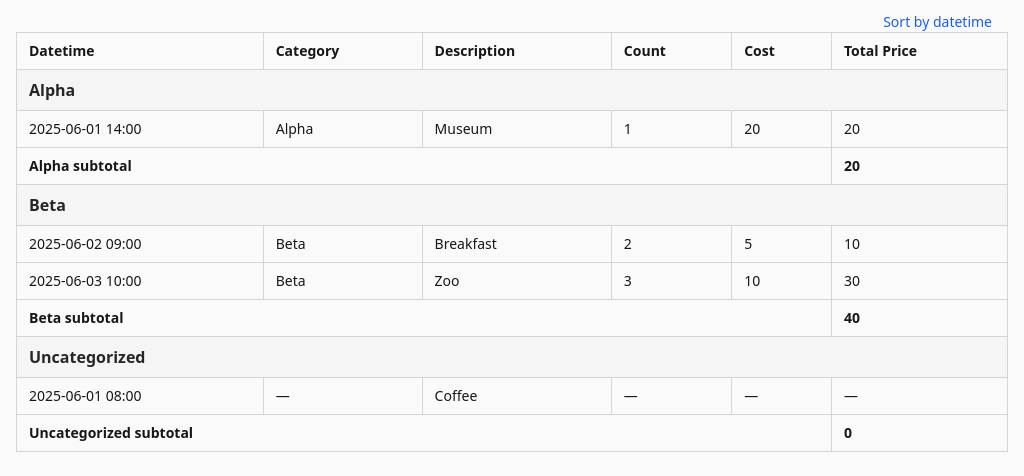
Scenario: ActivityTable › shows a select when category cell is clicked
Click the cell "Alpha" at [343, 129], box [263,110,422,148]
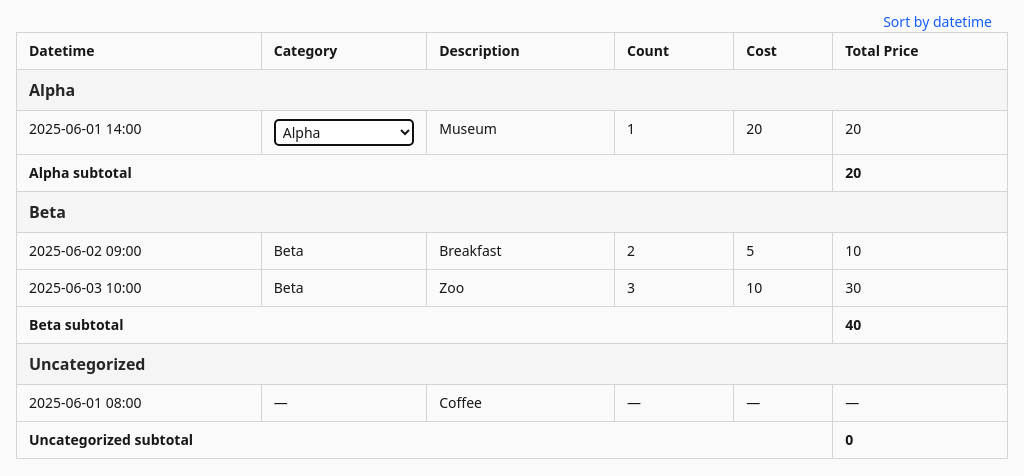
expect the dropdown is shown: met, box [274,119,414,146]
